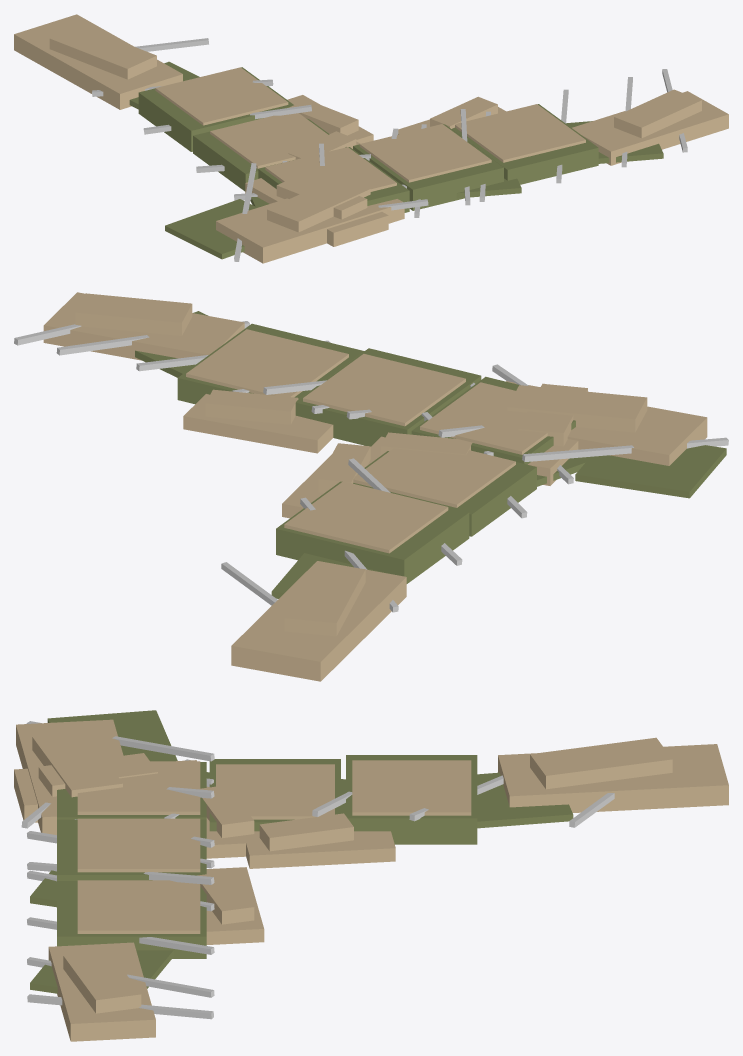
The model's file is SM_HescoEsquina_v0_MallaLimpia_e3_Brecha_LOD0.fbx.
3 renders of one model, top to bottom at view 1: azimuth 30°, elevation 25°; view 2: azimuth 150°, elevation 25°; view 3: azimuth 270°, elevation 25°, orthographic. The views are drawn at different scales.
Parts seen in each view (by area): view 1: SM_hesco_piezas_v3_LOD0; view 2: SM_hesco_piezas_v3_LOD0; view 3: SM_hesco_piezas_v3_LOD0.
Boxes of the visible parts, x1,y1,x2,y2 form: SM_hesco_piezas_v3_LOD0: [14, 14, 728, 263]; SM_hesco_piezas_v3_LOD0: [14, 292, 728, 681]; SM_hesco_piezas_v3_LOD0: [14, 710, 728, 1041].
Size of the model in its own units: 6.23 by 0.3263 by 5.83.
